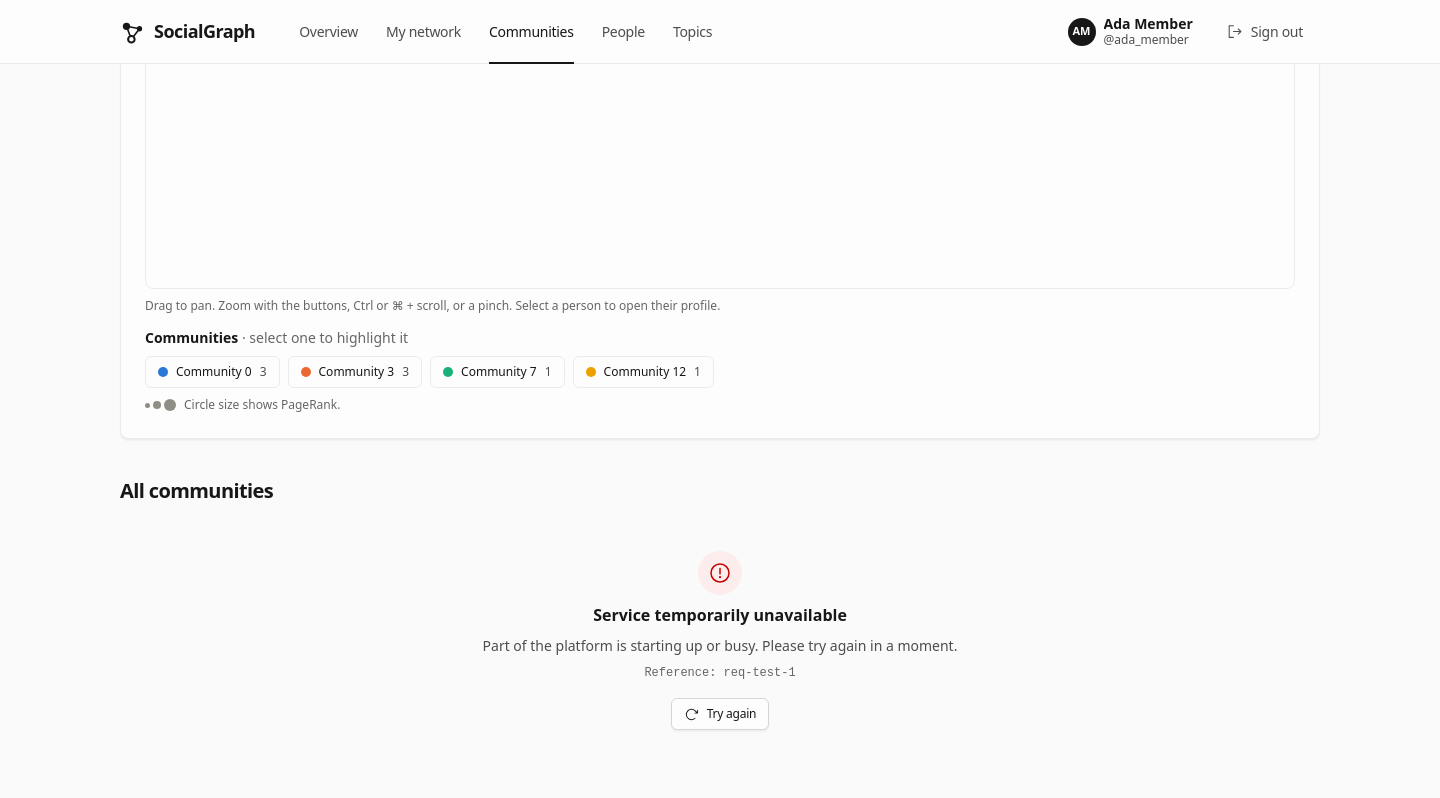
Test: Communities › shows an error with a retry
(page scrolled)
Expected: the text "Service temporarily unavailable" is shown, [593, 603, 847, 627]
Click the button "Try again". click: (720, 714)
box: [671, 698, 769, 730]
(page scrolled)
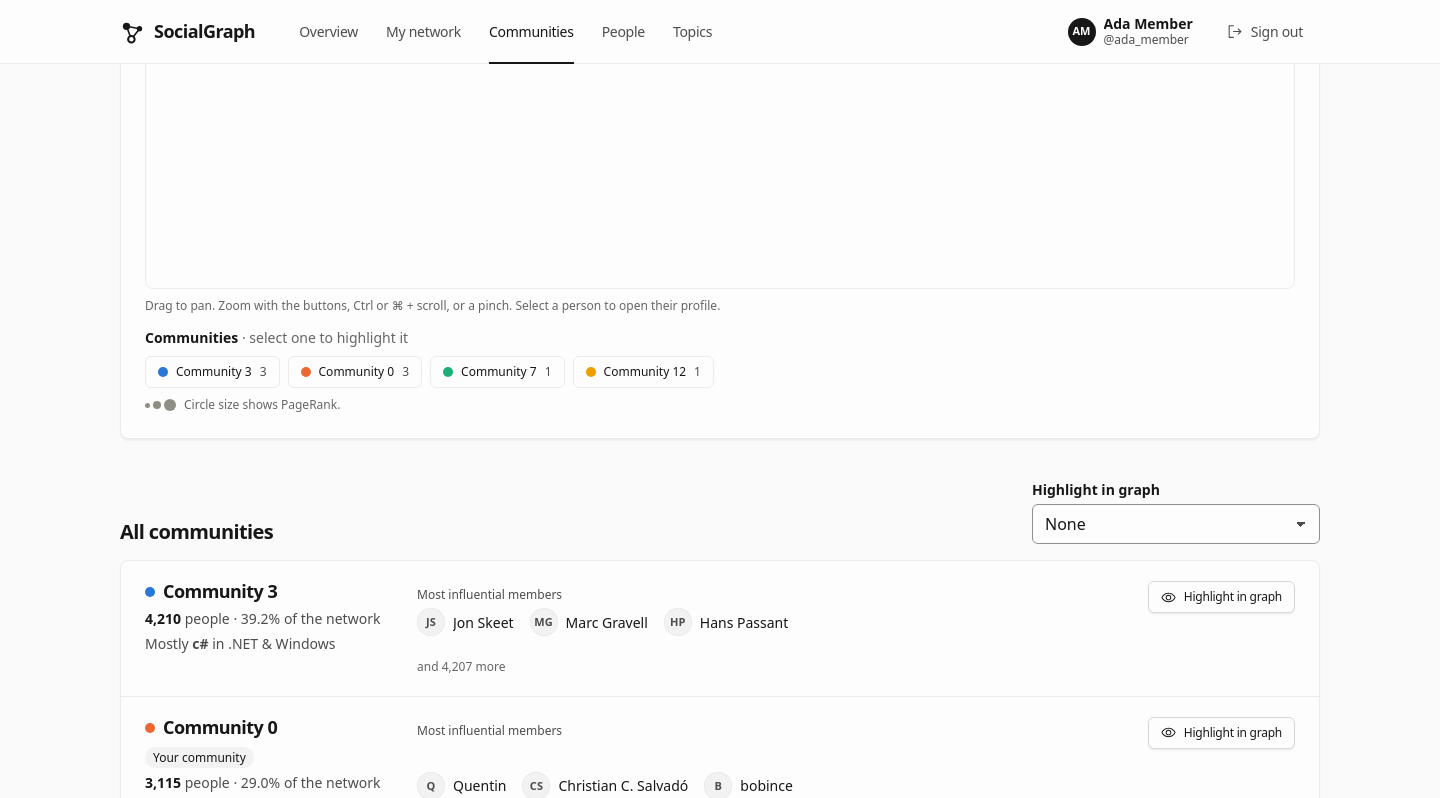
Result: the element "Community 3" is shown at [121, 561, 1319, 697]
